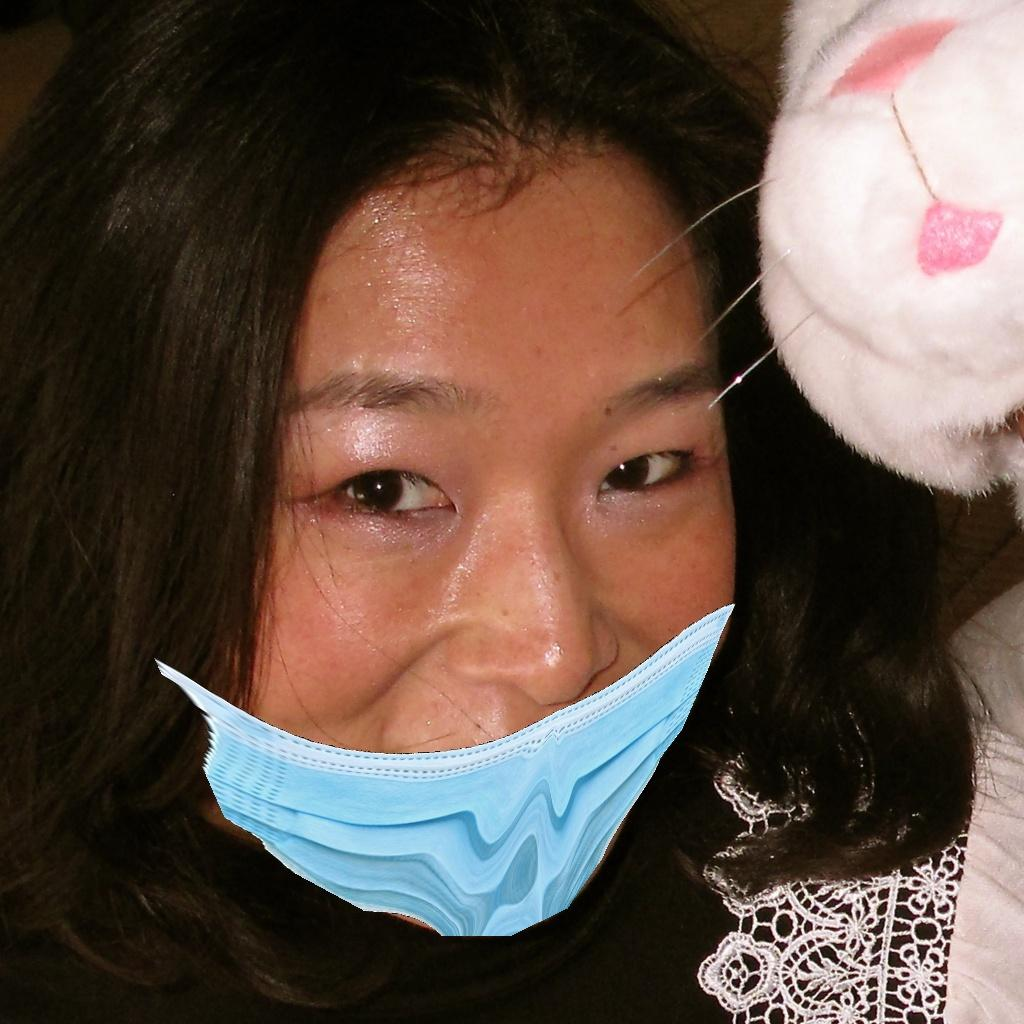Máscara Incorreta: (202, 286, 737, 917)
